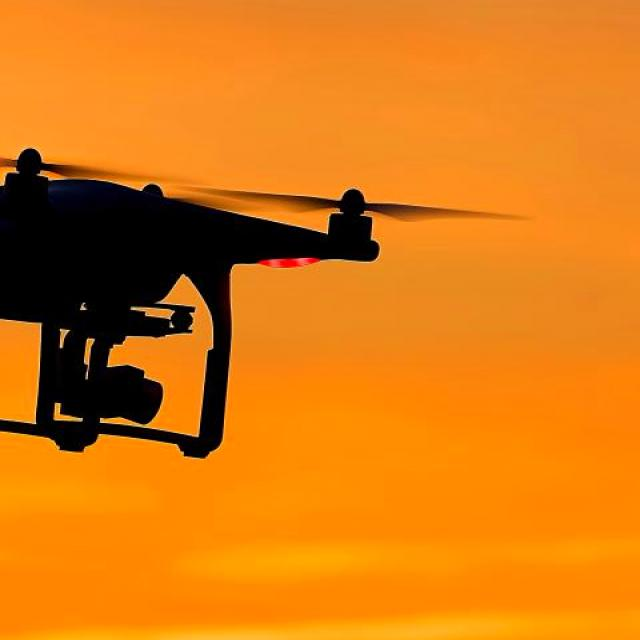drone: (0, 97, 516, 466)
